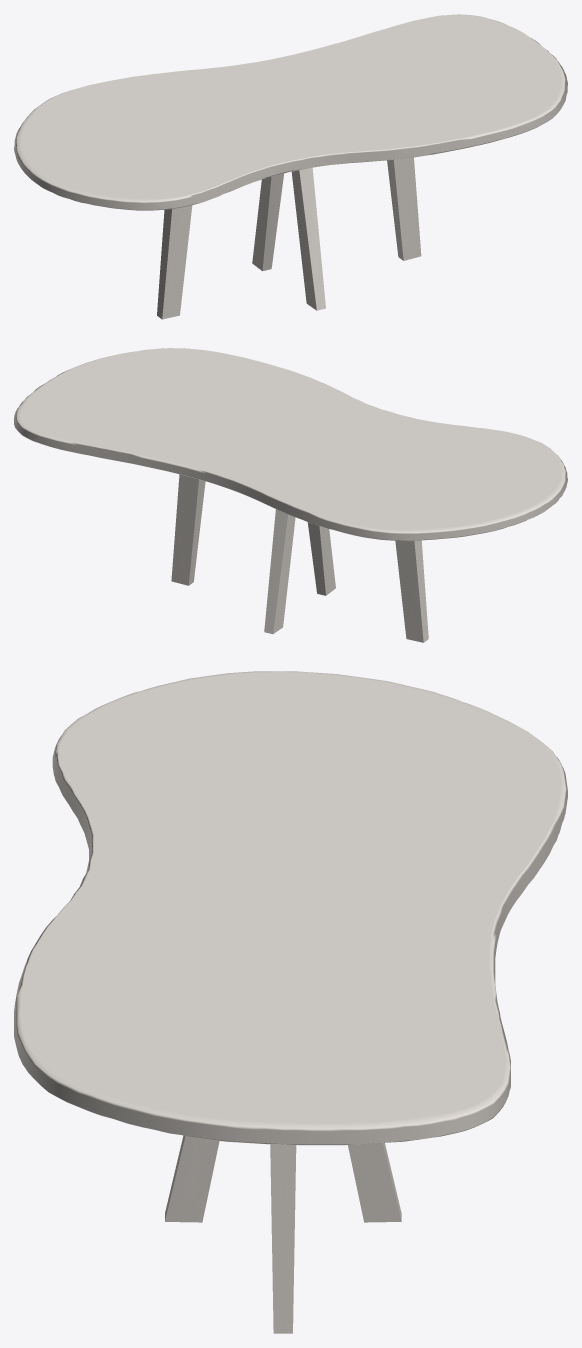
File: pearlwhite_wave_round_searwalnut.glb
3 renders of one model, top to bottom at view 1: azimuth 30°, elevation 25°; view 2: azimuth 150°, elevation 25°; view 3: azimuth 270°, elevation 25°, orthographic. The views are drawn at different scales.
Parts seen in each view (by area): view 1: round_wave, searwalnut; view 2: round_wave, searwalnut; view 3: round_wave, searwalnut.
Boxes of the visible parts, <box> form: round_wave: <box>14,14,567,210</box>; searwalnut: <box>157,157,421,319</box>; round_wave: <box>14,348,567,540</box>; searwalnut: <box>171,474,428,642</box>; round_wave: <box>14,671,567,1145</box>; searwalnut: <box>165,1135,401,1333</box>.
Bounding box in the file's own units: 7.7 × 2.5 × 3.89.
Materials: 1 (1 with a texture image).
